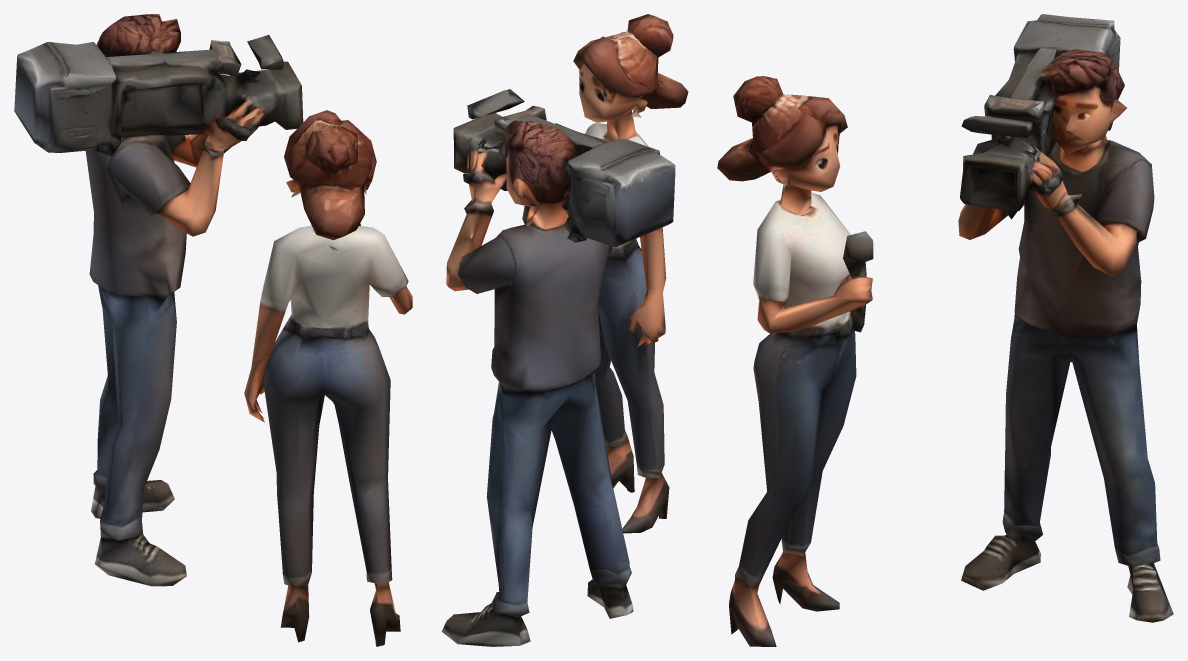
File: kamerateam.glb
3 renders of one model, left to right at view 1: azimuth 30°, elevation 25°; view 2: azimuth 150°, elevation 25°; view 3: azimuth 270°, elevation 25°, orthographic. The views are drawn at different scales.
Parts seen in each view (by area): view 1: tripo_node_e6c78789-6201-4ad6-950e-efd772d2a631; view 2: tripo_node_e6c78789-6201-4ad6-950e-efd772d2a631; view 3: tripo_node_e6c78789-6201-4ad6-950e-efd772d2a631.
Boxes of the visible parts, left/top/right/bottom form: tripo_node_e6c78789-6201-4ad6-950e-efd772d2a631: left=14, top=14, right=412, bottom=646; tripo_node_e6c78789-6201-4ad6-950e-efd772d2a631: left=441, top=14, right=688, bottom=646; tripo_node_e6c78789-6201-4ad6-950e-efd772d2a631: left=717, top=14, right=1173, bottom=646.
Bounding box in the file's own units: 0.5067 × 0.9995 × 0.7594.
1 material, 1 textured.
